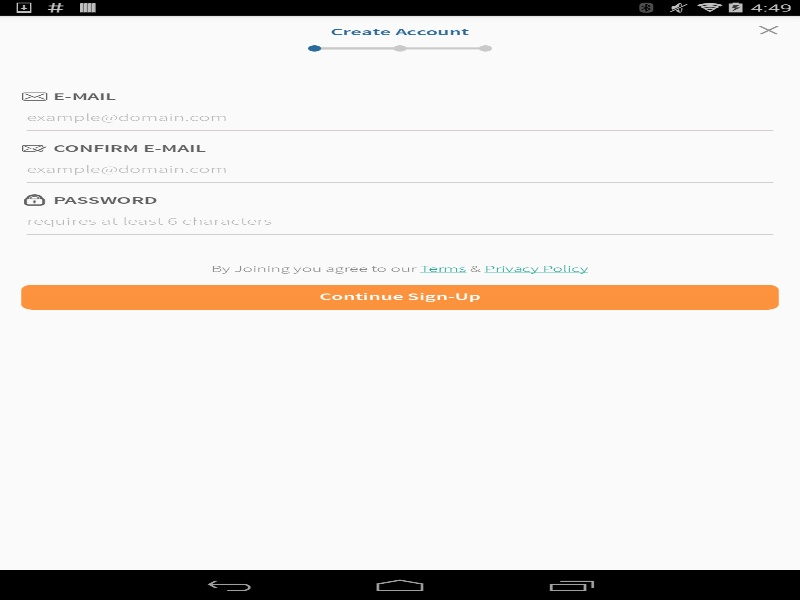Button: (21, 284, 778, 309)
Input: (21, 108, 778, 134), (21, 160, 778, 186), (21, 212, 778, 238)
